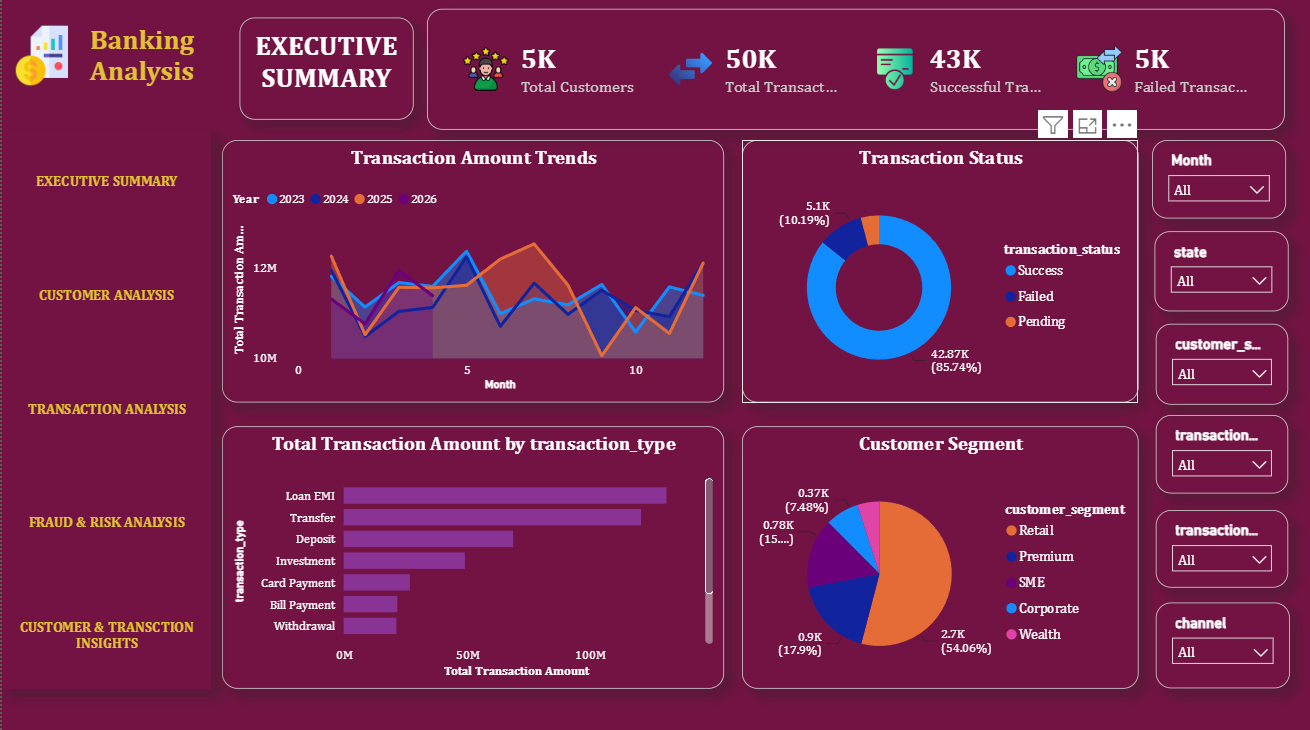

Layout of this report page (visuals, bound fields, positions):
{"tool":"powerbi","page":{"name":"EXECUTIVE SUMMARY","canvas":[1280,720],"ordinal":0},"visuals":[{"type":"textbox","box":[232.1,22.2,170.4,100],"z":0},{"type":"cardVisual","fields":{"Data":["finance_transactions.Total Customers","finance_transactions.Total Transactions","finance_transactions.Successful Transactions","finance_transactions.Failed Transactions"]},"box":[416,13.6,839.5,118.5],"z":1000},{"type":"areaChart","title":"Transaction Amount Trends","fields":{"Category":["Dim Calender.Month"],"Y":["finance_transactions.Total Transaction Amount"],"Series":["Dim Calender.Year"]},"box":[215.2,141.8,491.6,256.8],"z":2000},{"type":"donutChart","title":"Transaction Status","fields":{"Category":["finance_transactions.transaction_status"],"Y":["CountNonNull(finance_transactions.transaction_status)"]},"box":[723.9,141.8,387.6,256.8],"z":3000},{"type":"barChart","fields":{"Category":["finance_transactions.transaction_type"],"Y":["finance_transactions.Total Transaction Amount"]},"box":[215.2,421.9,491.6,256.8],"z":4000},{"type":"pieChart","title":"Customer Segment","fields":{"Y":["CountNonNull(customers.customer_segment)"],"Category":["customers.customer_segment"]},"box":[723.9,421.9,387.6,256.8],"z":5000},{"type":"slicer","fields":{"Values":["Dim Calender.Month"]},"box":[1125,141.8,130.8,77],"z":6000},{"type":"shape","box":[0,0,205.4,720.2],"z":7000},{"type":"textbox","box":[68.5,22,137,86.8],"z":8000},{"type":"image","box":[9.8,22,58.7,74.6],"z":9000},{"type":"pageNavigator","box":[0,132.5,205,546.2],"z":10000},{"type":"slicer","fields":{"Values":["customers.state"]},"box":[1127.5,231.1,130.8,78.3],"z":11000},{"type":"slicer","fields":{"Values":["customers.customer_segment"]},"box":[1128.7,321.6,129.6,79.5],"z":12000},{"type":"slicer","fields":{"Values":["finance_transactions.transaction_type"]},"box":[1128.7,410.9,129.6,77],"z":13000},{"type":"slicer","fields":{"Values":["finance_transactions.transaction_status"]},"box":[1128.7,503.8,129.6,75.8],"z":14000},{"type":"slicer","fields":{"Values":["finance_transactions.channel"]},"box":[1128.7,594.3,130.8,84.4],"z":15000}]}

Visuals, with their boxes in screenshot pixels (x1, y1, x2, y2), scaled from the page's 1280x720 canvas onto the 1310x730 screenshot:
textbox: left=238, top=23, right=412, bottom=124
cardVisual - finance_transactions.Total Customers x finance_transactions.Total Transactions: left=426, top=14, right=1285, bottom=134
"Transaction Amount Trends" areaChart: left=220, top=144, right=723, bottom=404
"Transaction Status" donutChart: left=741, top=144, right=1138, bottom=404
barChart - finance_transactions.transaction_type x finance_transactions.Total Transaction Amount: left=220, top=428, right=723, bottom=688
"Customer Segment" pieChart: left=741, top=428, right=1138, bottom=688
slicer - Dim Calender.Month: left=1151, top=144, right=1285, bottom=222
shape: left=0, top=0, right=210, bottom=729
textbox: left=70, top=22, right=210, bottom=110
image: left=10, top=22, right=70, bottom=98
pageNavigator: left=0, top=134, right=210, bottom=688
slicer - customers.state: left=1154, top=234, right=1288, bottom=314
slicer - customers.customer_segment: left=1155, top=326, right=1288, bottom=407
slicer - finance_transactions.transaction_type: left=1155, top=417, right=1288, bottom=495
slicer - finance_transactions.transaction_status: left=1155, top=511, right=1288, bottom=588
slicer - finance_transactions.channel: left=1155, top=603, right=1289, bottom=688
